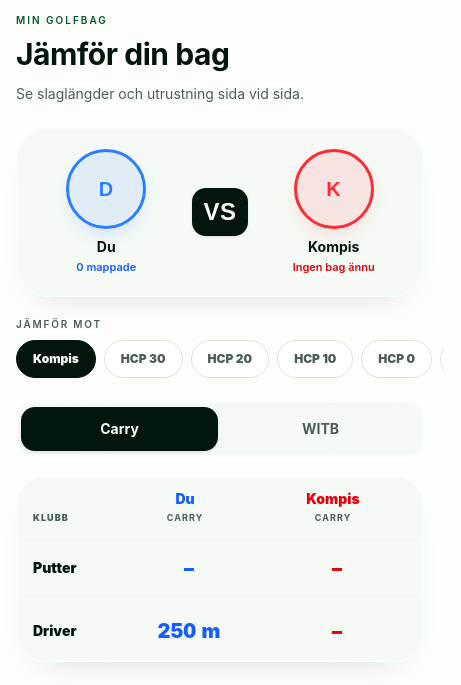
shows carry comparisons and clearly labels benchmark estimates
Step 1. Click the button "HCP 10" → (315, 358), box [277,340,353,378]
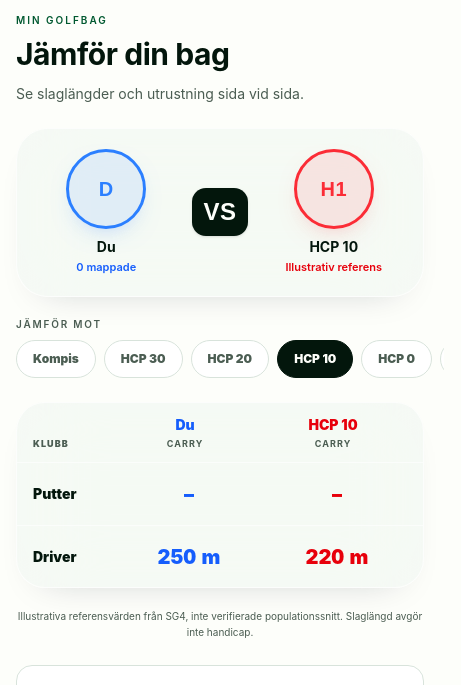
Expected: the text "250 m" is shown, [158,544,220,568]
Expected: the text "220 m" is shown, [306,544,368,568]
Expected: the text "Illustrativa referensvärden" is shown, [18,610,422,638]
